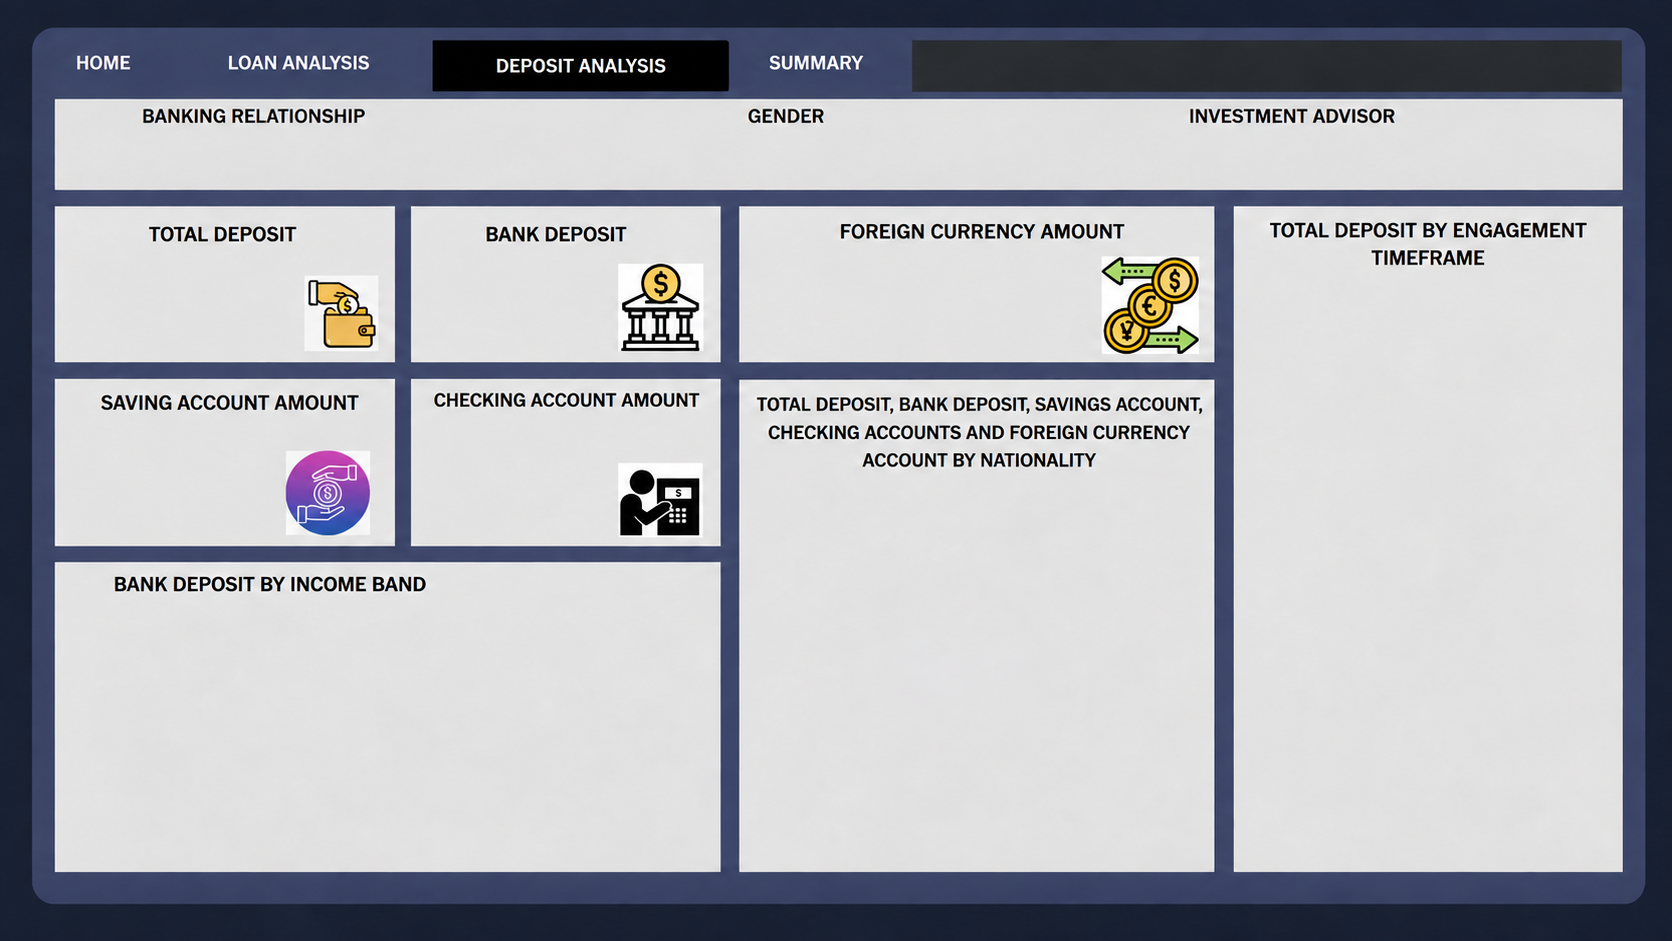

This screenshot's page, from the dashboard's own definition file:
{"tool":"powerbi","page":{"name":"Deposit Analysis","canvas":[1280,720],"ordinal":2},"visuals":[{"type":"card","fields":{"Values":["DAX Measures.Total Deposit"]},"box":[72.7,226.3,161.8,90.3],"z":0},{"type":"card","fields":{"Values":["DAX Measures.Bank Deposit"]},"box":[299,226.3,172.4,89.1],"z":1000},{"type":"card","fields":{"Values":["DAX Measures.Savings Account"]},"box":[72.7,360,161.8,89.1],"z":2000},{"type":"card","fields":{"Values":["DAX Measures.Checking Accounts"]},"box":[300.2,360,171.2,89.1],"z":3000},{"type":"slicer","fields":{"Values":["Banking Relationship.Banking Relationship"]},"box":[98.5,105.2,292.9,75.7],"z":4000},{"type":"slicer","fields":{"Values":["Gender.Gender"]},"box":[518.9,105.2,292.9,75.7],"z":5000},{"type":"slicer","fields":{"Values":["Investment Advisor.Investment Advisor"]},"box":[891.3,105.2,292.9,75.7],"z":6000},{"type":"card","fields":{"Values":["DAX Measures.Foreign Currency Account"]},"box":[537.1,227.5,349.4,89.1],"z":7000},{"type":"treemap","fields":{"Group":["Clients - Banking.Income Band"],"Values":["DAX Measures.Bank Deposit"]},"box":[72.7,470.2,444.4,190],"z":8000},{"type":"columnChart","fields":{"Category":["Clients - Banking.Nationality"],"Y":["DAX Measures.Total Deposit","DAX Measures.Bank Deposit","DAX Measures.Savings Account","DAX Measures.Checking Accounts","DAX Measures.Foreign Currency Account"]},"box":[537.1,338.9,423.3,331.9],"z":9000},{"type":"clusteredBarChart","fields":{"Category":["Clients - Banking.Engagement Timeframe"],"Y":["DAX Measures.Total Deposit"]},"box":[978,207.6,234.5,452.6],"z":10000},{"type":"slicer","fields":{"Values":["Period.Name"]},"box":[555.2,34.6,702.1,46.6],"z":11000},{"type":"actionButton","box":[72.8,44.2,58.5,31],"z":12000},{"type":"actionButton","box":[160,44.2,119.4,31],"z":13000},{"type":"actionButton","box":[471.6,44.2,83.6,31],"z":14000}]}

Visuals, with their boxes in screenshot pixels (x1, y1, x2, y2), scaled from the page's 1280x720 canvas onto the 1672x941 screenshot:
card - DAX Measures.Total Deposit: x1=95 y1=296 x2=306 y2=414
card - DAX Measures.Bank Deposit: x1=391 y1=296 x2=616 y2=412
card - DAX Measures.Savings Account: x1=95 y1=470 x2=306 y2=587
card - DAX Measures.Checking Accounts: x1=392 y1=470 x2=616 y2=587
slicer - Banking Relationship.Banking Relationship: x1=129 y1=137 x2=511 y2=236
slicer - Gender.Gender: x1=678 y1=137 x2=1060 y2=236
slicer - Investment Advisor.Investment Advisor: x1=1164 y1=137 x2=1547 y2=236
card - DAX Measures.Foreign Currency Account: x1=702 y1=297 x2=1158 y2=414
treemap - Clients - Banking.Income Band x DAX Measures.Bank Deposit: x1=95 y1=615 x2=675 y2=863
columnChart - Clients - Banking.Nationality x DAX Measures.Total Deposit: x1=702 y1=443 x2=1255 y2=877
clusteredBarChart - Clients - Banking.Engagement Timeframe x DAX Measures.Total Deposit: x1=1278 y1=271 x2=1584 y2=863
slicer - Period.Name: x1=725 y1=45 x2=1642 y2=106
actionButton: x1=95 y1=58 x2=172 y2=98
actionButton: x1=209 y1=58 x2=365 y2=98
actionButton: x1=616 y1=58 x2=725 y2=98
